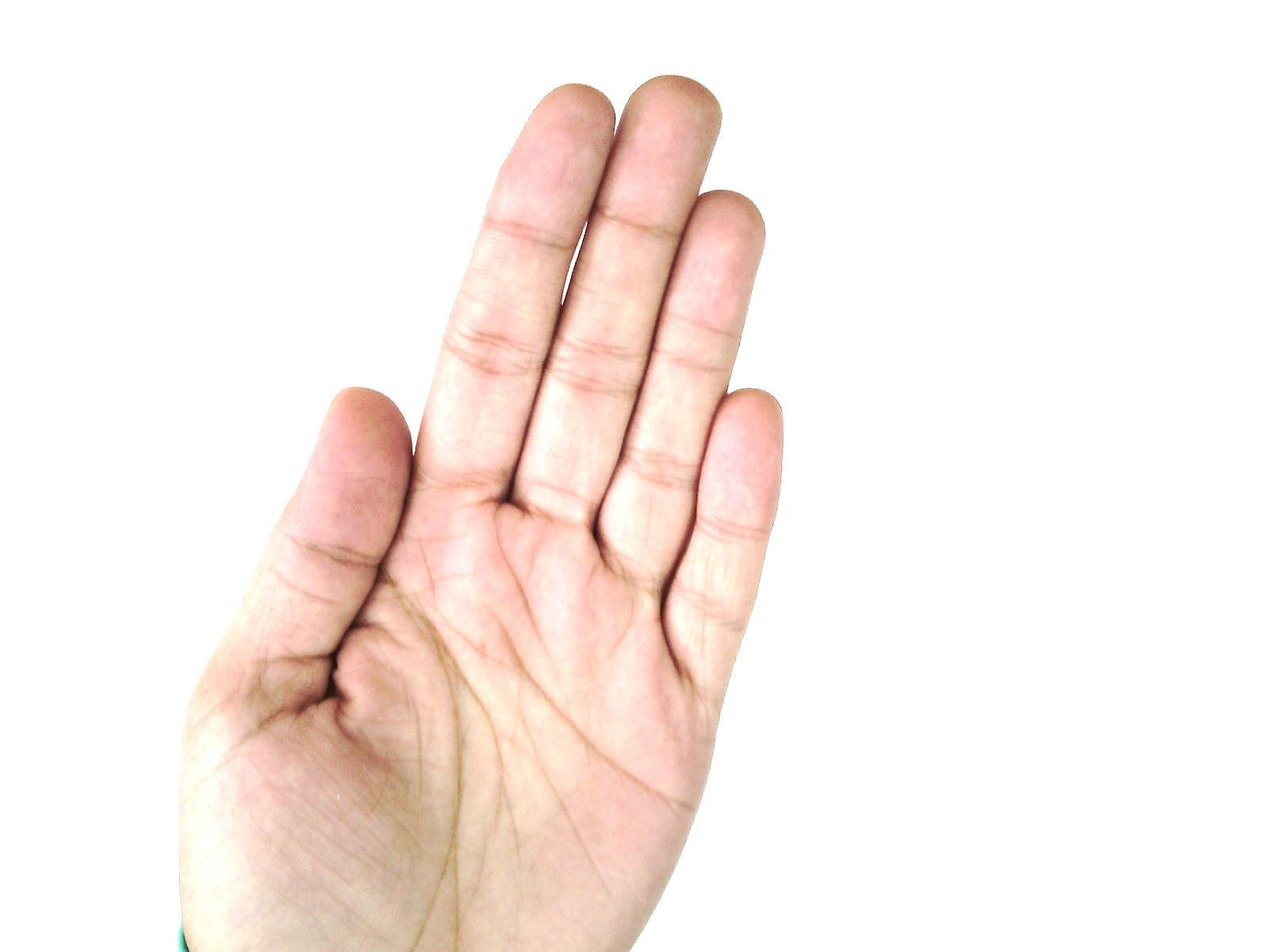open_palm: (174, 73, 788, 951)
